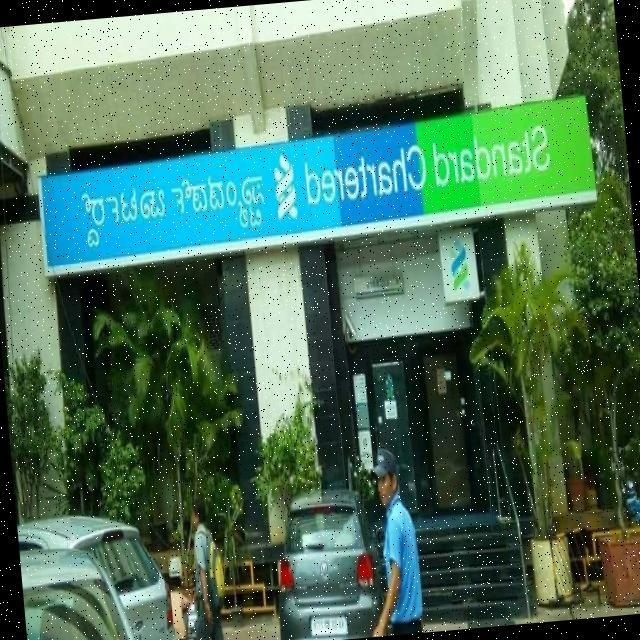Standard Chartered: (270, 120, 553, 223)
